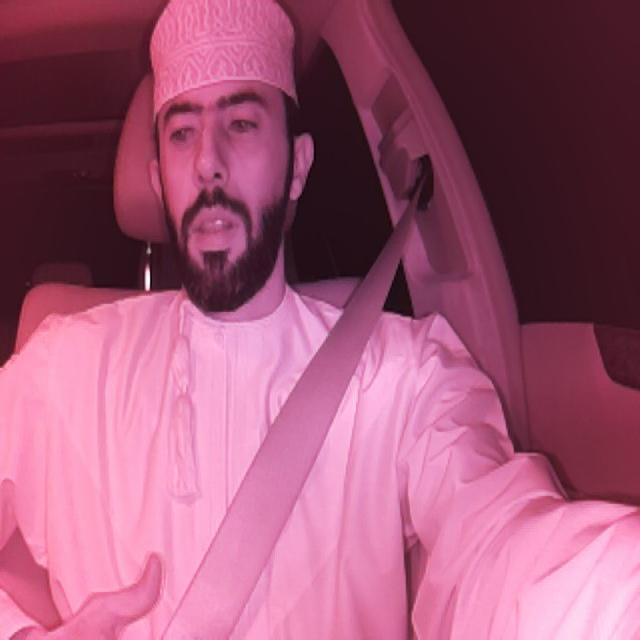seatbelt: (162, 160, 430, 638)
